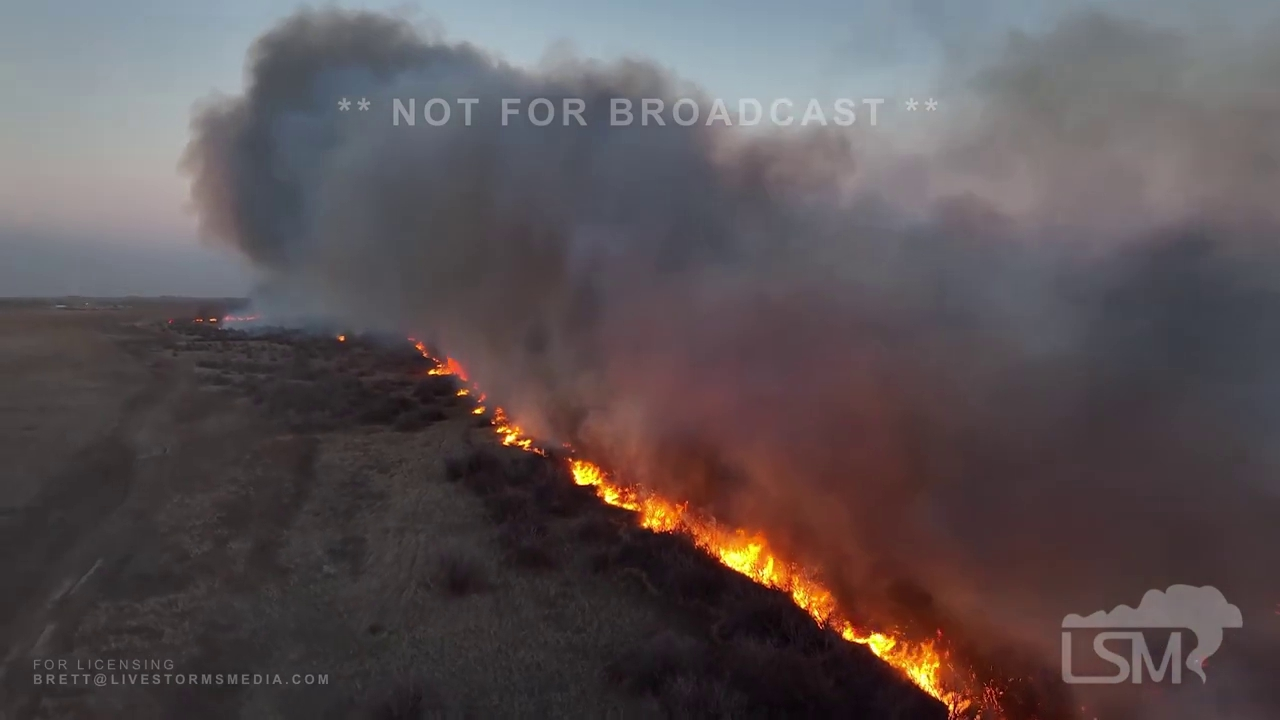forest_fire: (566, 457, 972, 719), (409, 338, 476, 396), (490, 407, 550, 457)
